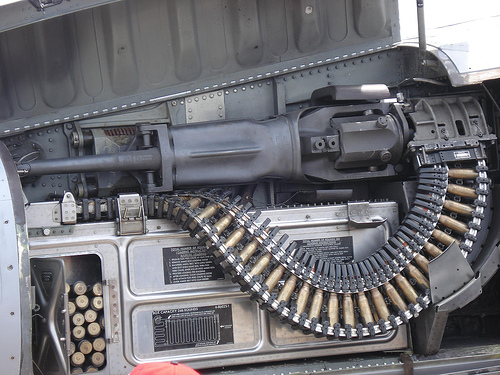rifle: (10, 70, 494, 276)
